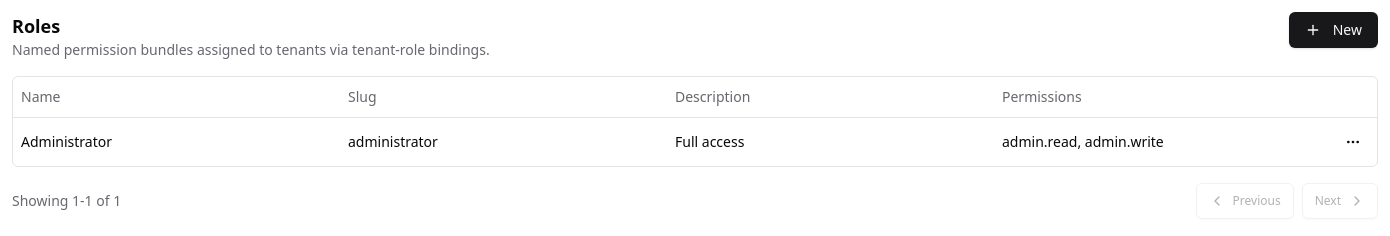
it: RBAC roles resource › offers delete but not edit (roles have no update endpoint)
Expected: the text "Administrator" is shown, [13, 117, 340, 166]
Click the button named "Actions for Administrator" at (1353, 142), box [1337, 126, 1369, 158]
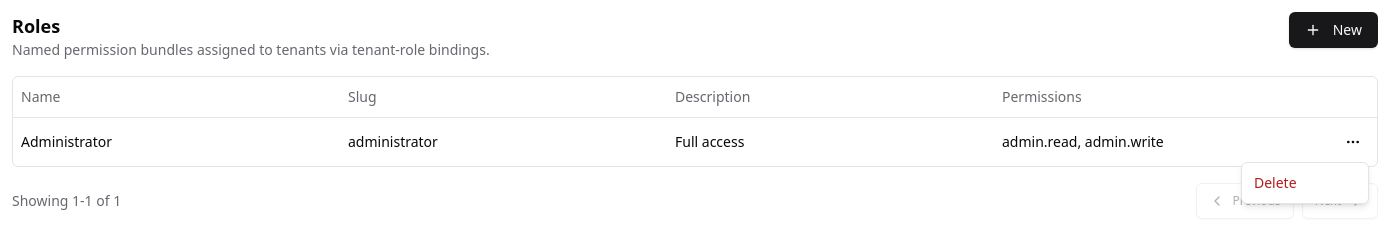
Expected: the menu item "Delete" is shown, [1254, 173, 1297, 192]
